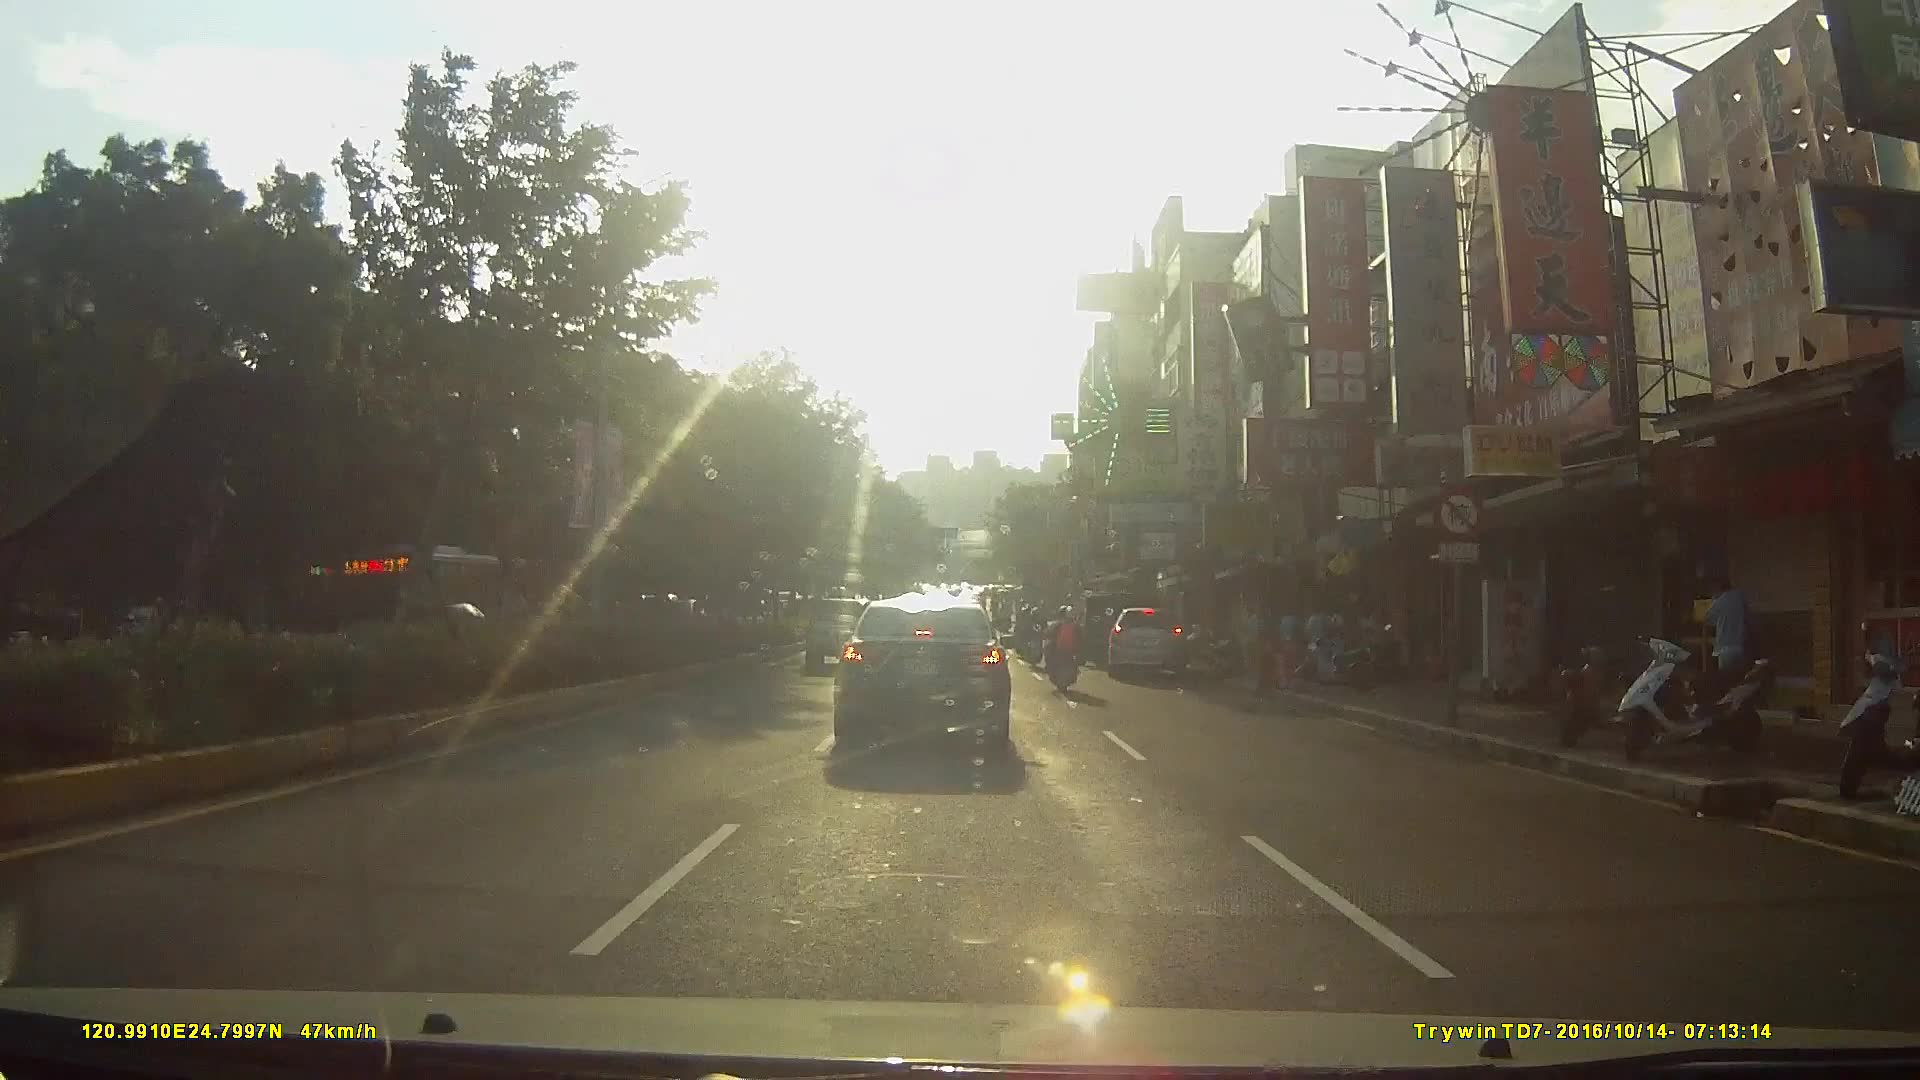pedestrian: (1696, 581, 1751, 723)
rider: (1049, 604, 1094, 702), (1017, 603, 1046, 669)
vehicle: (829, 588, 1032, 761), (323, 541, 533, 654), (1106, 600, 1195, 684)
